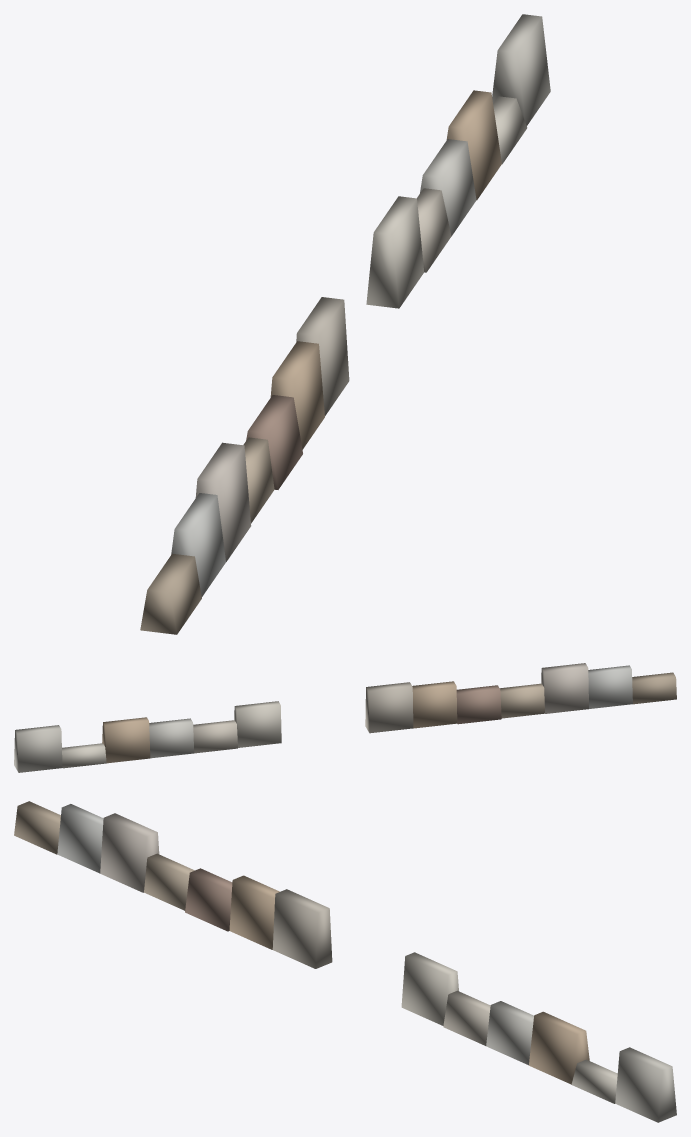
The model's file is farm_6_5_collision.glb.
3 views of the same model, one above another, from view 1: azimuth 30°, elevation 25°; view 2: azimuth 150°, elevation 25°; view 3: azimuth 270°, elevation 25° (orthographic). The views are drawn at different scales.
Visible parts, largest first — view 1: geometry_0; view 2: geometry_0; view 3: geometry_0.
Boxes of the visible parts, <box> form: geometry_0: <box>140,14,550,634</box>; geometry_0: <box>14,663,676,772</box>; geometry_0: <box>14,801,676,1122</box>.
Size of the model in its own units: 17.49 by 1.67 by 16.93.
